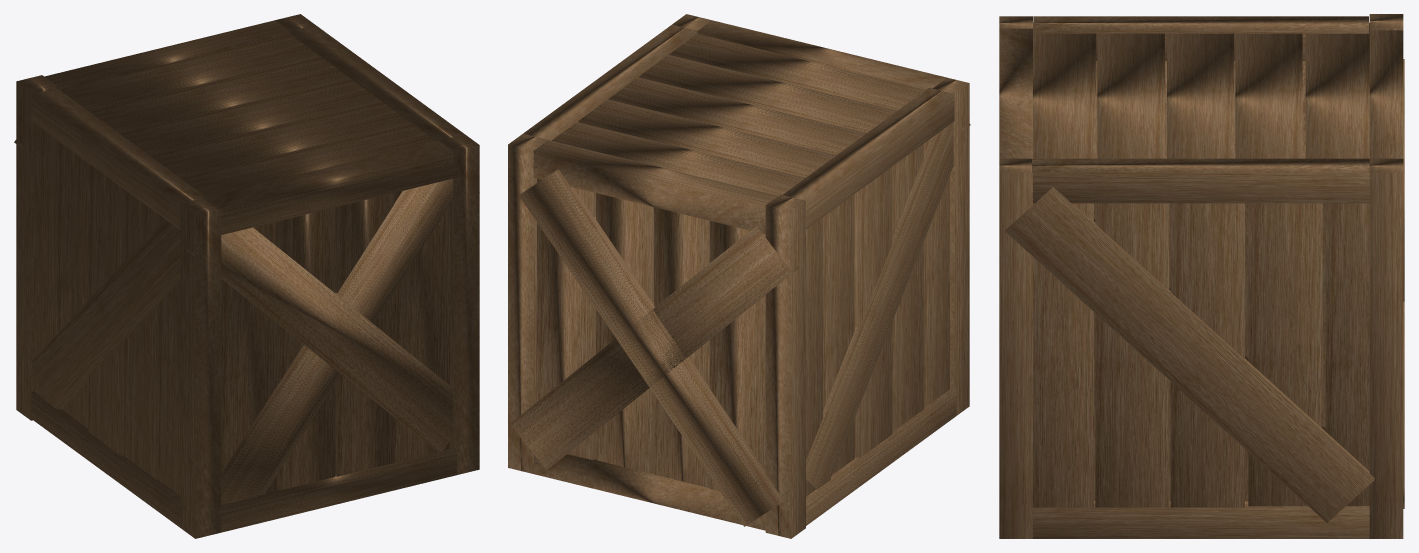
File: crate.glb
3 renders of one model, left to right at view 1: azimuth 30°, elevation 25°; view 2: azimuth 150°, elevation 25°; view 3: azimuth 270°, elevation 25°, orthographic. The views are drawn at different scales.
Parts seen in each view (by area): view 1: Cube.024; view 2: Cube.024; view 3: Cube.024, Cube.
Boxes of the visible parts, bbox=[...] form: Cube.024: bbox=[14, 14, 479, 538]; Cube.024: bbox=[508, 14, 970, 538]; Cube.024: bbox=[999, 14, 1404, 538]; Cube: bbox=[1094, 61, 1325, 501].
Size of the model in its own units: 22.37 by 24.3 by 24.09.
1 material, 1 textured.
